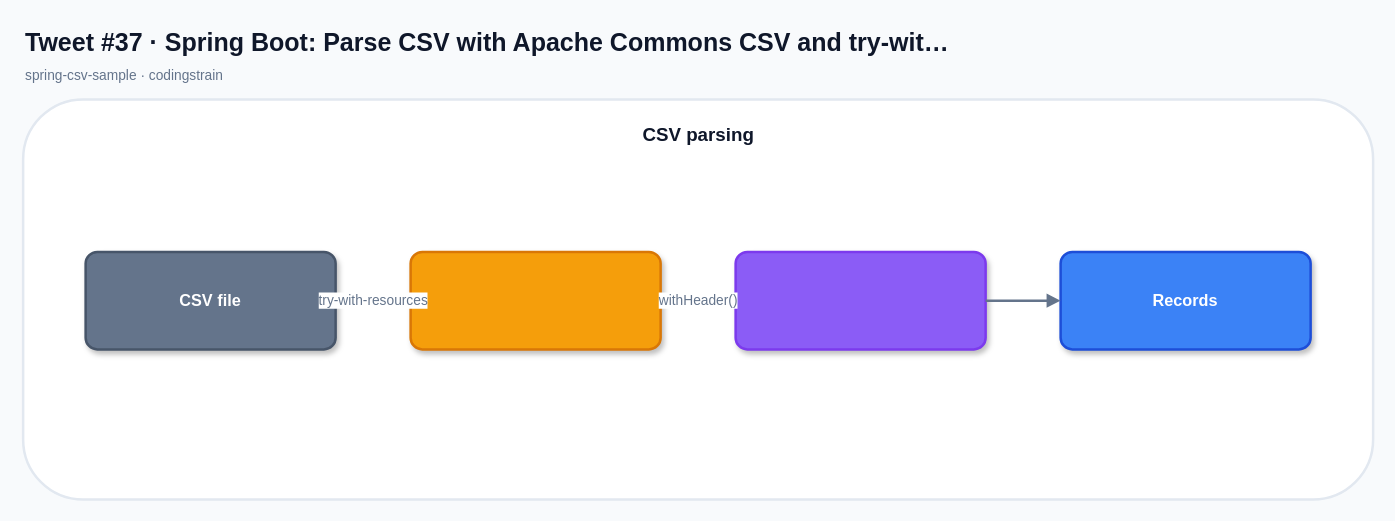
Some shapes in this 1395 by 521 pixel diagram are drawn without their labels. The shapes that lost their labels are listed below. From the top down, each one's centre as x and y in pixels, then its label:
pixel 536 302: BufferedReader
pixel 861 302: CSVParser
